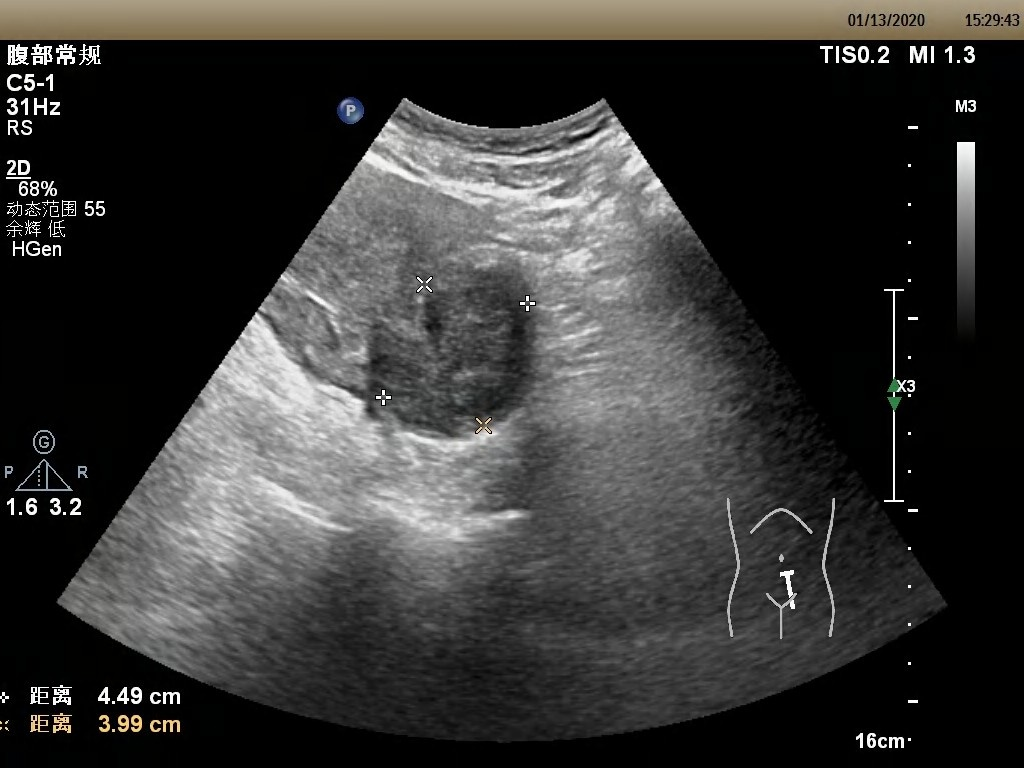肌瘤: (376, 271, 531, 437)
